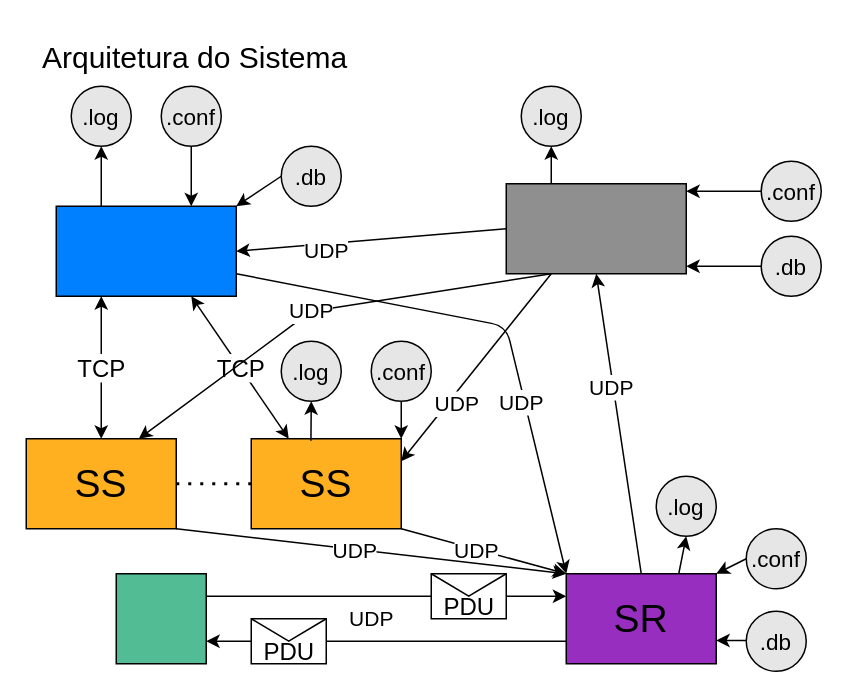
Image size: 848x698. Some labels were removed from this diagram. Here are the shapes that lost their labels. From the top down, the centre of each, then its label:
At (595,228): "ST".
At (145,250): "SP".
At (160,618): "CL".
